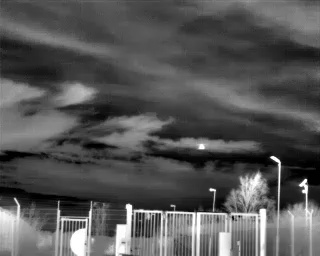HELICOPTER: (194, 140, 210, 155)
